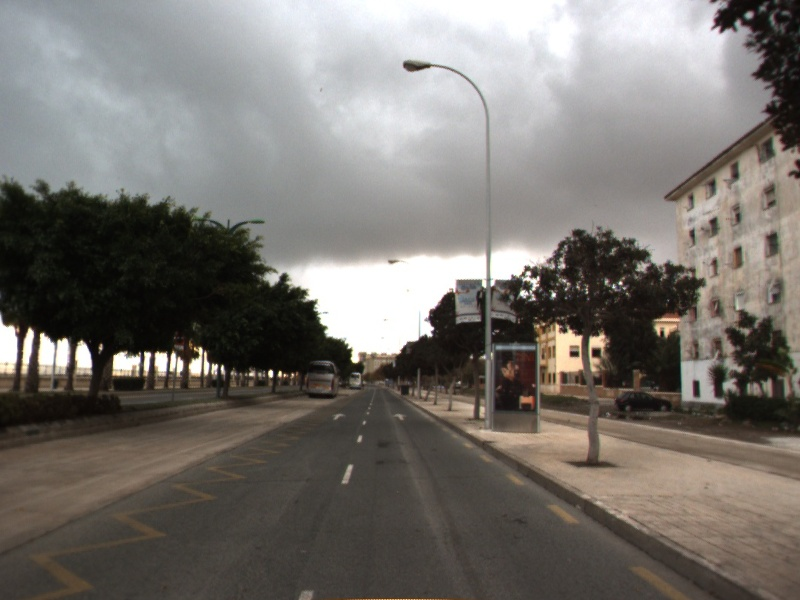STRAIGHT: (391, 411, 410, 422), (330, 412, 349, 422)
